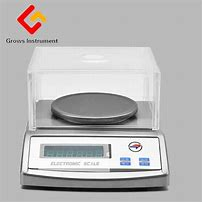Industrial Scale: (18, 45, 172, 191)
